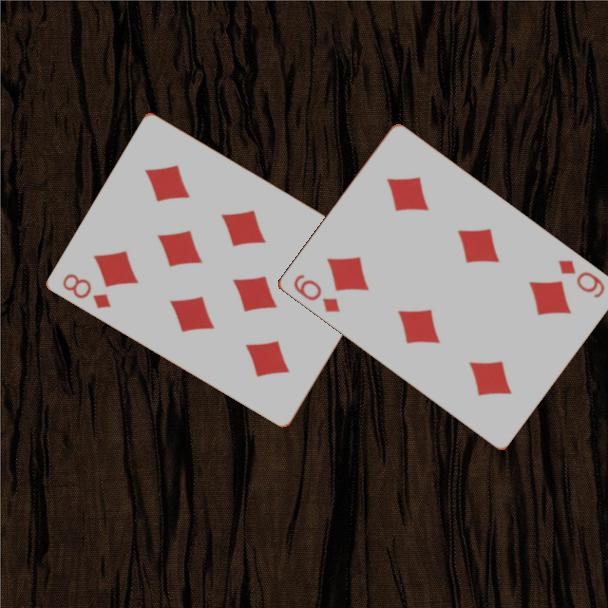d06: (554, 256, 607, 301), (289, 271, 343, 315)
d08: (59, 270, 115, 311)
